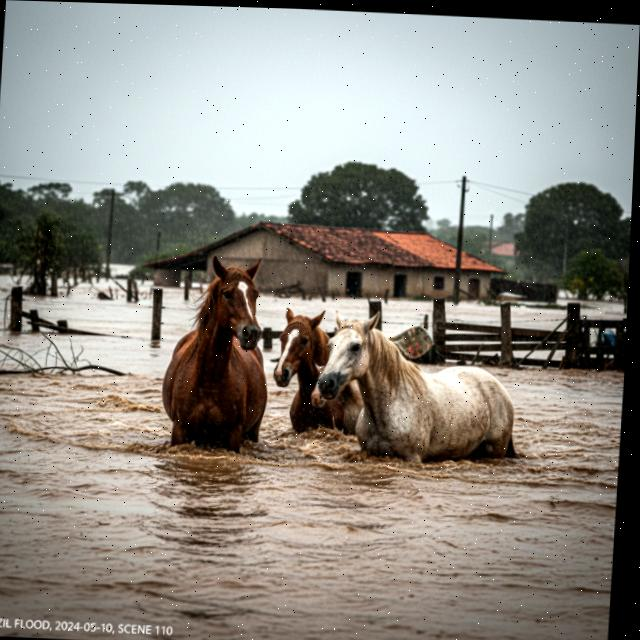horse: (289, 301, 530, 472), (152, 245, 283, 463), (265, 298, 345, 439), (308, 359, 373, 443)
